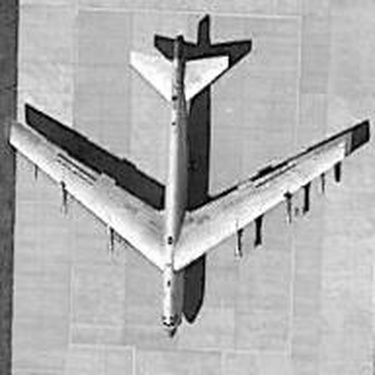airplane: (1, 24, 358, 346)
